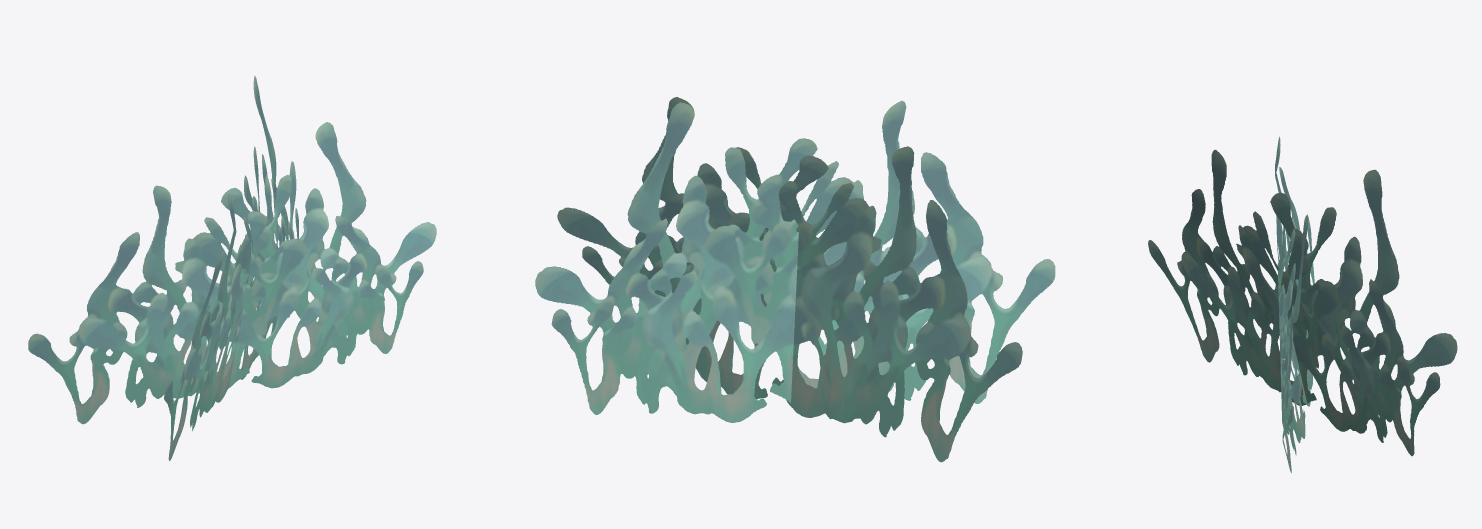
Rendered from rootSphereMoss01.fbx.
3 views of the same model, side by side, from view 1: azimuth 30°, elevation 25°; view 2: azimuth 150°, elevation 25°; view 3: azimuth 270°, elevation 25° (orthographic). The views are drawn at different scales.
Parts seen in each view (by area): view 1: rootSphereMoss01; view 2: rootSphereMoss01; view 3: rootSphereMoss01.
Part boxes in pixels (x1,y1,x2,y2): rootSphereMoss01: [28, 76, 436, 460]; rootSphereMoss01: [535, 97, 1055, 462]; rootSphereMoss01: [1148, 136, 1457, 472].
Size of the model in its own units: 95.56 by 66.68 by 69.13.
